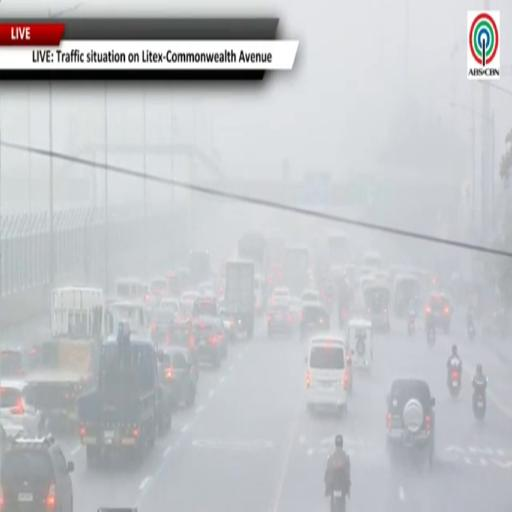car: (0, 436, 74, 511), (387, 378, 435, 466), (306, 335, 350, 411), (0, 379, 44, 436), (159, 346, 199, 407), (193, 318, 225, 367), (300, 302, 330, 340), (426, 293, 452, 333), (0, 348, 33, 378), (267, 302, 293, 338), (166, 320, 196, 350), (151, 309, 175, 343), (219, 308, 236, 341), (192, 296, 218, 317), (180, 291, 200, 317), (150, 277, 168, 301), (289, 297, 302, 328), (159, 297, 180, 314), (270, 287, 290, 303), (301, 290, 322, 302), (198, 282, 215, 295)
motorcycle: (473, 390, 486, 420), (448, 367, 461, 396), (466, 312, 476, 342), (331, 490, 345, 511), (408, 312, 416, 335), (467, 324, 476, 342), (427, 328, 435, 346)
truck: (78, 323, 172, 467), (24, 287, 104, 429), (224, 261, 254, 339), (284, 247, 310, 296), (238, 231, 266, 274), (189, 251, 211, 285)
